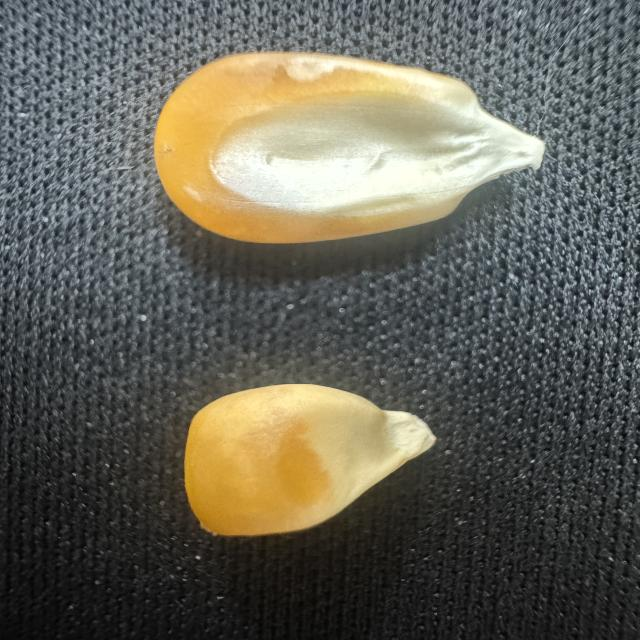Bad-Seed: (165, 376, 455, 548)
Good-Seed: (140, 38, 563, 252)
